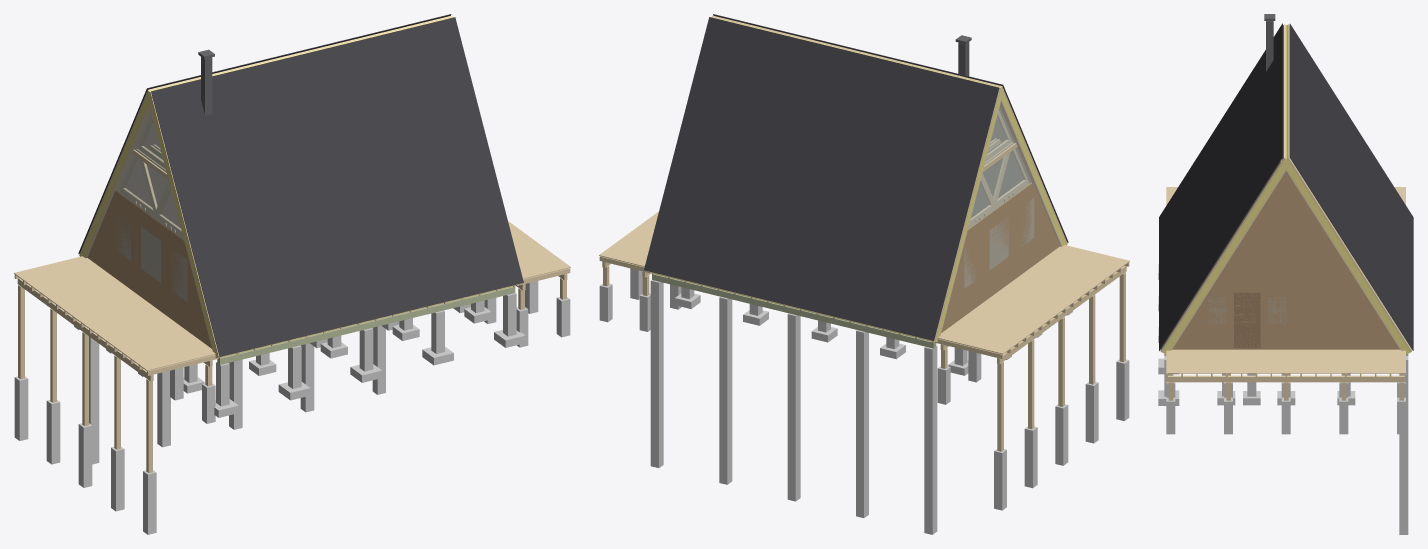
File: cabin2.glb
The picture shows the model from 3 angles, left to right: view 1: azimuth 30°, elevation 25°; view 2: azimuth 150°, elevation 25°; view 3: azimuth 270°, elevation 25°; orthographic projection. The views are drawn at different scales.
Parts seen in each view (by area): view 1: roof_sheet_S, decking_W, gable_W_logs, pine_ceiling_N, beam_0, decking_E, roof_insul_N, bored_pile_N0, roof_insul_S, roof_sheet_N, bored_pile_N1, glazing_W2 (+20 smaller); view 2: roof_sheet_N, decking_W, gable_W_logs, bored_pile_N0, bored_pile_N2, bored_pile_N4, bored_pile_N3, bored_pile_N1, pine_ceiling_S, beam_4, decking_E, roof_insul_S (+19 smaller); view 3: gable_E_logs, roof_sheet_N, roof_sheet_S, decking_E, roof_insul_S, deck_beam_E00.025, roof_insul_N, door_E, bored_pile_N4, counter_battens_N, counter_battens_S, deck_beam_E0-0.025 (+8 smaller).
Part boxes in pixels (x1=…): roof_sheet_S: x1=151, y1=17, x2=523, y2=356; decking_W: x1=14, y1=256, x2=215, y2=370; gable_W_logs: x1=87, y1=191, x2=211, y2=348; pine_ceiling_N: x1=85, y1=97, x2=180, y2=258; beam_0: x1=217, y1=286, x2=515, y2=364; decking_E: x1=508, y1=221, x2=570, y2=279; roof_insul_N: x1=80, y1=17, x2=452, y2=257; bored_pile_N0: x1=89, y1=336, x2=99, y2=464; roof_insul_S: x1=147, y1=92, x2=519, y2=358; roof_sheet_N: x1=78, y1=14, x2=451, y2=253; bored_pile_N1: x1=157, y1=370, x2=170, y2=447; glazing_W2: x1=117, y1=149, x2=152, y2=215; roof_sheet_N: x1=644, y1=17, x2=999, y2=340; decking_W: x1=937, y1=245, x2=1129, y2=354; gable_W_logs: x1=941, y1=182, x2=1059, y2=332; bored_pile_N0: x1=924, y1=346, x2=937, y2=534; bored_pile_N2: x1=787, y1=313, x2=800, y2=501; bored_pile_N4: x1=650, y1=280, x2=663, y2=467; bored_pile_N3: x1=719, y1=296, x2=732, y2=484; bored_pile_N1: x1=856, y1=330, x2=868, y2=517; pine_ceiling_S: x1=971, y1=93, x2=1061, y2=246; beam_4: x1=652, y1=274, x2=936, y2=348; decking_E: x1=599, y1=211, x2=658, y2=266; roof_insul_S: x1=711, y1=17, x2=1066, y2=245; gable_E_logs: x1=1172, y1=171, x2=1399, y2=349; roof_sheet_N: x1=1289, y1=24, x2=1413, y2=350; roof_sheet_S: x1=1159, y1=23, x2=1282, y2=350; decking_E: x1=1166, y1=349, x2=1405, y2=373; roof_insul_S: x1=1162, y1=25, x2=1290, y2=354; deck_beam_E00.025: x1=1166, y1=376, x2=1405, y2=382; roof_insul_N: x1=1281, y1=25, x2=1410, y2=354; door_E: x1=1234, y1=292, x2=1260, y2=348; bored_pile_N4: x1=1399, y1=356, x2=1408, y2=534; counter_battens_N: x1=1287, y1=24, x2=1411, y2=351; counter_battens_S: x1=1160, y1=24, x2=1284, y2=351; deck_beam_E0-0.025: x1=1168, y1=375, x2=1404, y2=376.
Bounding box in the file's own units: 14.7 × 15.04 × 8.52.
